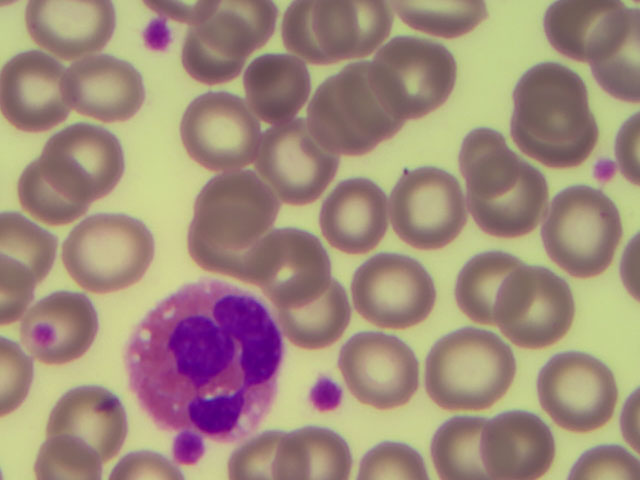Platelets: (139, 16, 174, 52), (311, 378, 340, 413), (177, 434, 203, 463), (27, 321, 49, 351), (595, 156, 613, 180)
RBC: (424, 333, 514, 410), (470, 153, 548, 234), (191, 207, 276, 278), (553, 195, 619, 280), (307, 78, 387, 148), (70, 225, 154, 291), (394, 167, 460, 251), (379, 36, 451, 113), (182, 1, 279, 57), (516, 67, 587, 143), (358, 255, 435, 325), (46, 127, 122, 197), (263, 124, 330, 201), (455, 255, 531, 322), (545, 355, 616, 426), (334, 70, 408, 138), (56, 388, 126, 459), (4, 52, 71, 126), (343, 340, 416, 406), (433, 418, 510, 480), (503, 271, 570, 342), (516, 97, 586, 164), (66, 56, 144, 116), (287, 272, 348, 348), (255, 237, 327, 301), (184, 99, 259, 159), (206, 171, 271, 240), (488, 409, 551, 480), (309, 1, 386, 59), (22, 156, 89, 222), (281, 4, 346, 72), (247, 58, 310, 126), (594, 14, 640, 107), (546, 5, 625, 59), (330, 176, 386, 248), (29, 1, 116, 46), (281, 429, 354, 480), (391, 1, 486, 40), (7, 212, 57, 279), (467, 127, 513, 194), (44, 438, 110, 480), (358, 442, 430, 480), (232, 445, 305, 480), (189, 34, 243, 80), (1, 251, 35, 323), (56, 295, 92, 360), (565, 448, 640, 477), (1, 339, 29, 407), (619, 114, 640, 186), (618, 237, 640, 304), (116, 456, 176, 480), (618, 387, 640, 448), (147, 1, 206, 13)
WBC: (140, 280, 276, 429)
